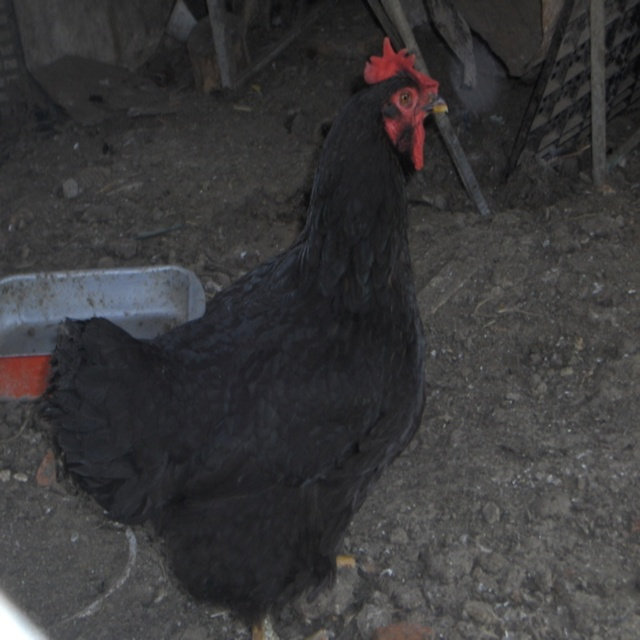Chicken: (41, 37, 427, 639)
